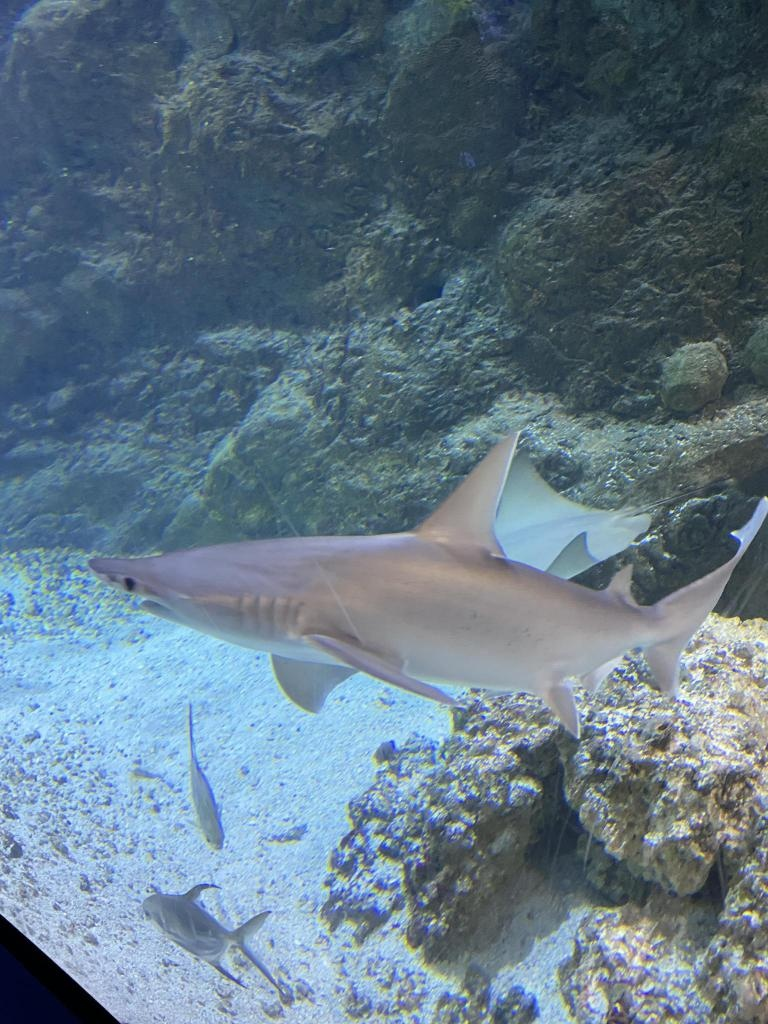fish: (142, 882, 282, 988), (187, 704, 225, 852)
shark: (83, 422, 768, 742)
